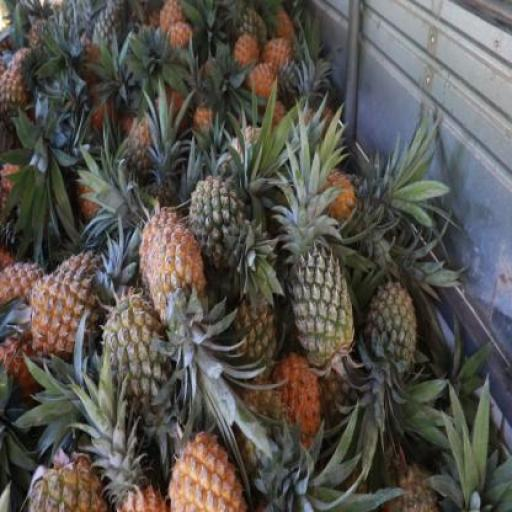------------------------------: (101, 295, 172, 405), (188, 175, 252, 274), (31, 443, 103, 512), (0, 67, 28, 126)
Pineapple - v8 v1: (30, 264, 100, 364), (168, 428, 246, 511), (148, 228, 208, 330), (136, 207, 184, 296), (0, 260, 47, 322), (250, 63, 284, 103), (265, 39, 294, 82), (234, 36, 260, 78)
